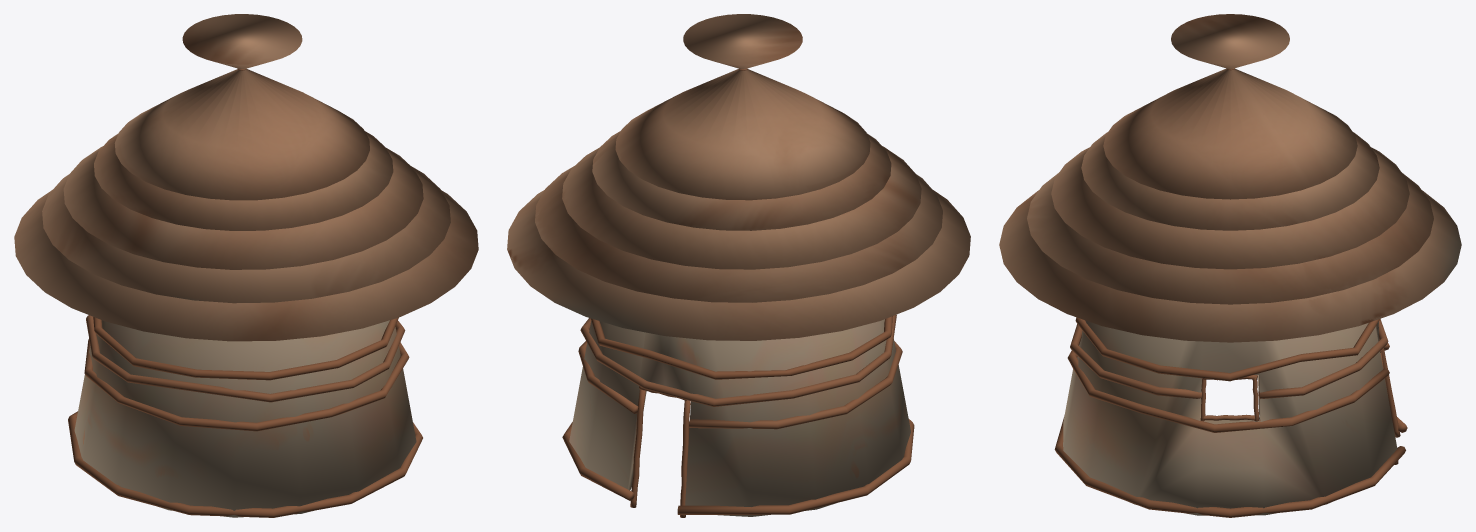
File: cabana arrumada.fbx
3 renders of one model, left to right at view 1: azimuth 30°, elevation 25°; view 2: azimuth 150°, elevation 25°; view 3: azimuth 270°, elevation 25°, orthographic.
Parts seen in each view (by area): view 1: Cylinder.005; view 2: Cylinder.005; view 3: Cylinder.005.
Part boxes in pixels (bbox=[...]): Cylinder.005: bbox=[14, 14, 478, 517]; Cylinder.005: bbox=[507, 14, 970, 517]; Cylinder.005: bbox=[999, 14, 1461, 517].
Size of the model in its own units: 320 by 314 by 320.
